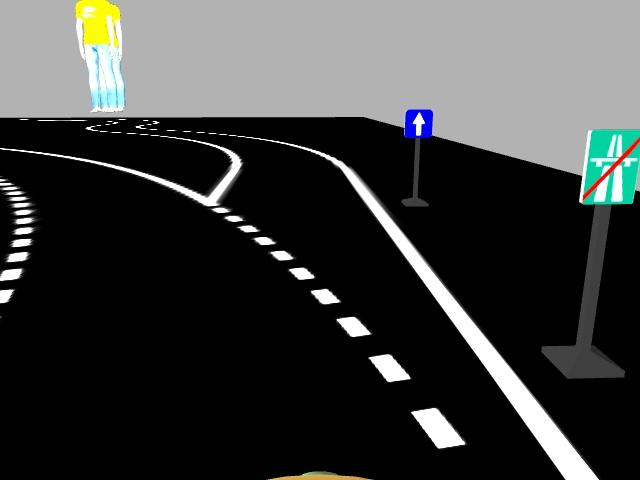HighwayExit: (582, 127, 635, 204)
OneWay: (404, 107, 433, 137)
